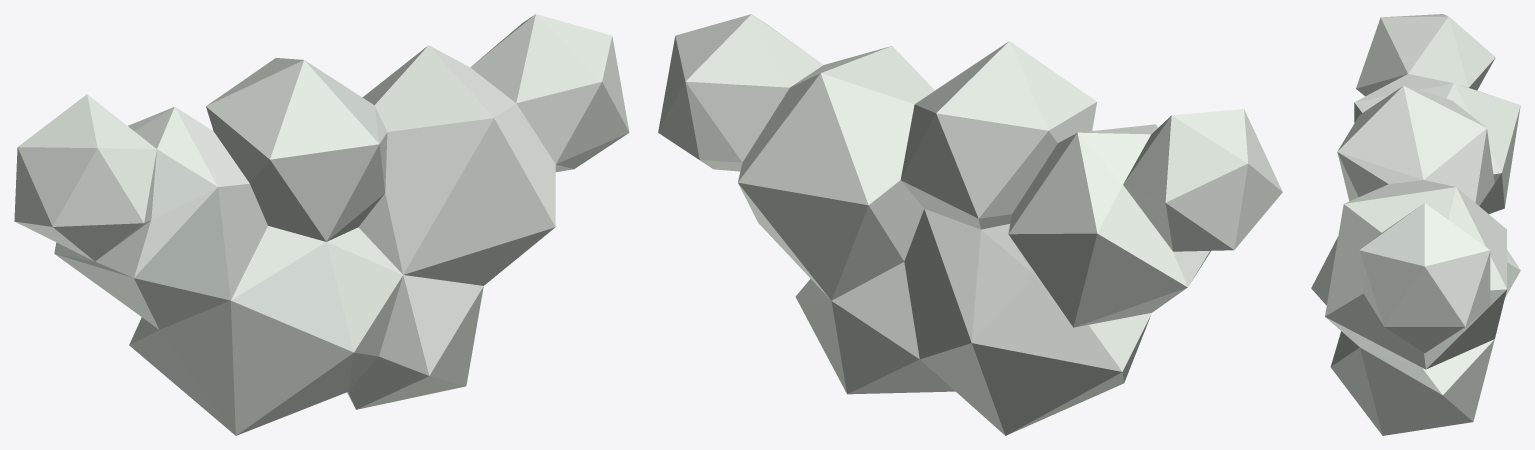
Rendered from TB_CITY_Env_Cloud_A.FBX.
3 views of the same model, side by side, from view 1: azimuth 30°, elevation 25°; view 2: azimuth 150°, elevation 25°; view 3: azimuth 270°, elevation 25° (orthographic). The views are drawn at different scales.
Visible parts, largest first — view 1: TB_CITY_Env_Cloud_A; view 2: TB_CITY_Env_Cloud_A; view 3: TB_CITY_Env_Cloud_A.
Part boxes in pixels (bbox=[...]): TB_CITY_Env_Cloud_A: bbox=[14, 14, 629, 435]; TB_CITY_Env_Cloud_A: bbox=[658, 14, 1282, 435]; TB_CITY_Env_Cloud_A: bbox=[1311, 14, 1520, 435].
Size of the model in its own units: 52.85 by 31.4 by 20.03.
